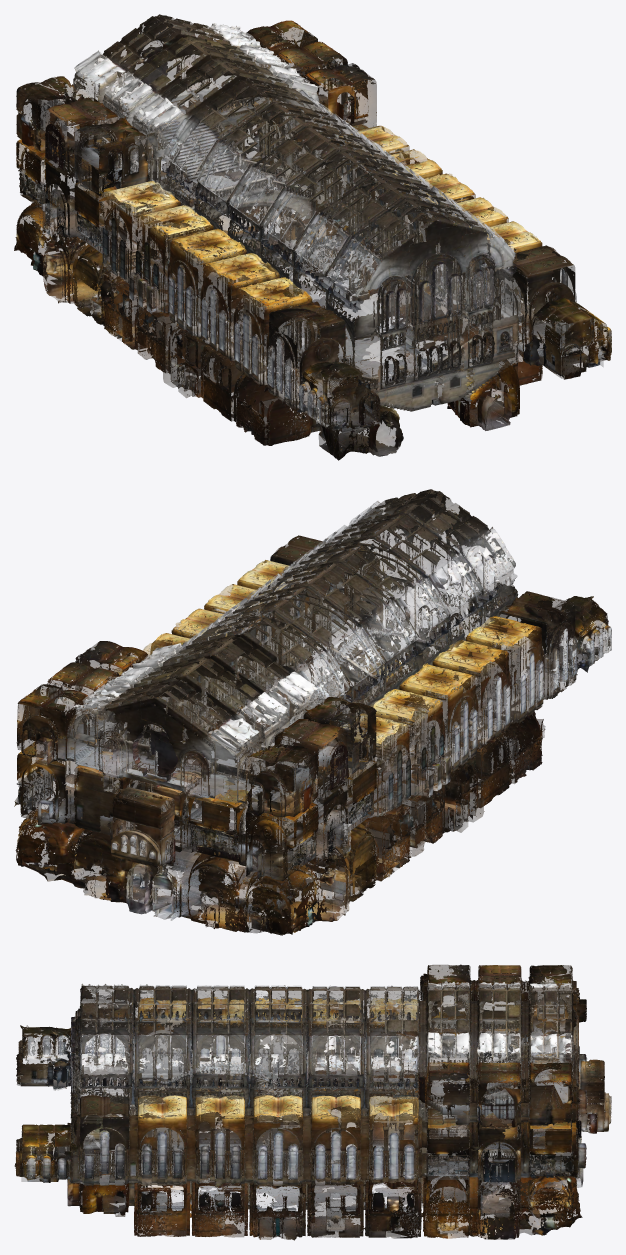
The model's file is hintze-hall-mobile-v1.glb.
3 views of the same model, one above another, from view 1: azimuth 30°, elevation 25°; view 2: azimuth 150°, elevation 25°; view 3: azimuth 270°, elevation 25° (orthographic). The views are drawn at different scales.
Parts seen in each view (by area): view 1: Hintze Hall photogrammetry - David Fletcher artfletch; view 2: Hintze Hall photogrammetry - David Fletcher artfletch; view 3: Hintze Hall photogrammetry - David Fletcher artfletch.
Boxes of the visible parts, box(x1,y1,x2,y2) form: Hintze Hall photogrammetry - David Fletcher artfletch: box(14, 14, 611, 460); Hintze Hall photogrammetry - David Fletcher artfletch: box(14, 489, 611, 935); Hintze Hall photogrammetry - David Fletcher artfletch: box(14, 964, 611, 1240).
Bounding box in the file's own units: 22.72 × 16.3 × 45.48.
Materials: 3 (2 with a texture image).
